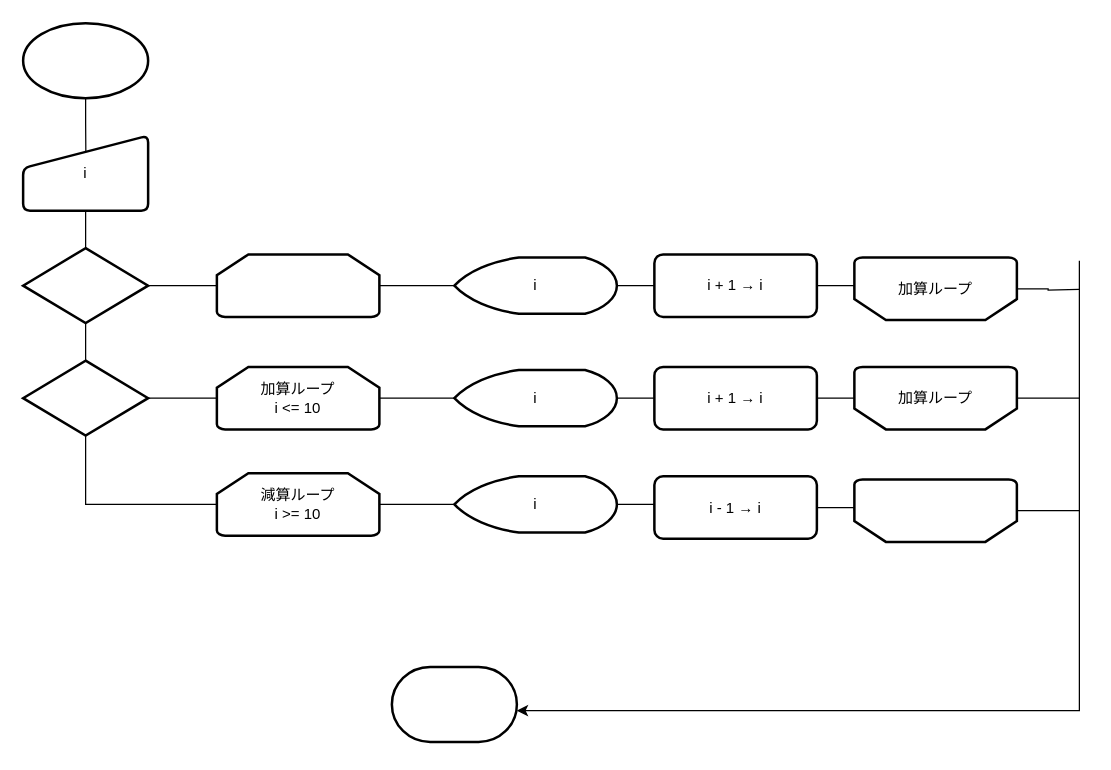
Some shapes in this 1111 by 770 pixel diagram are drawn without their labels. Here are the shapes that lost their labels. From the top down, the centre of each, then its label:
the point at 85,60: 開始
the point at 85,285: i < 0
the point at 297,285: 加算ループ i <= 0
the point at 85,397: i >= 0 && i < 10
the point at 935,510: 減 算ループ
the point at 454,703: 終了
